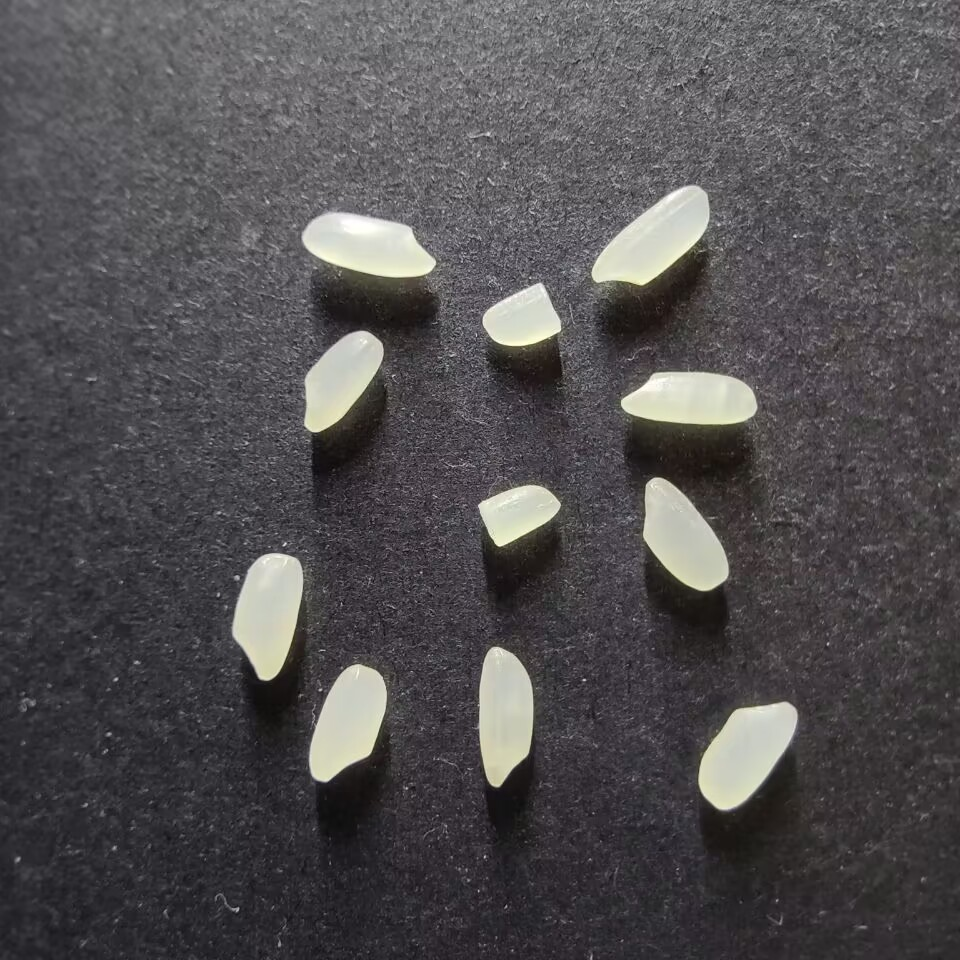broken: (477, 481, 563, 549), (479, 281, 564, 348)
rice: (589, 181, 712, 288), (695, 698, 799, 812), (639, 475, 731, 594), (306, 659, 388, 783), (229, 552, 304, 683), (300, 210, 437, 280), (300, 328, 385, 434), (475, 643, 534, 790), (617, 369, 758, 426)
